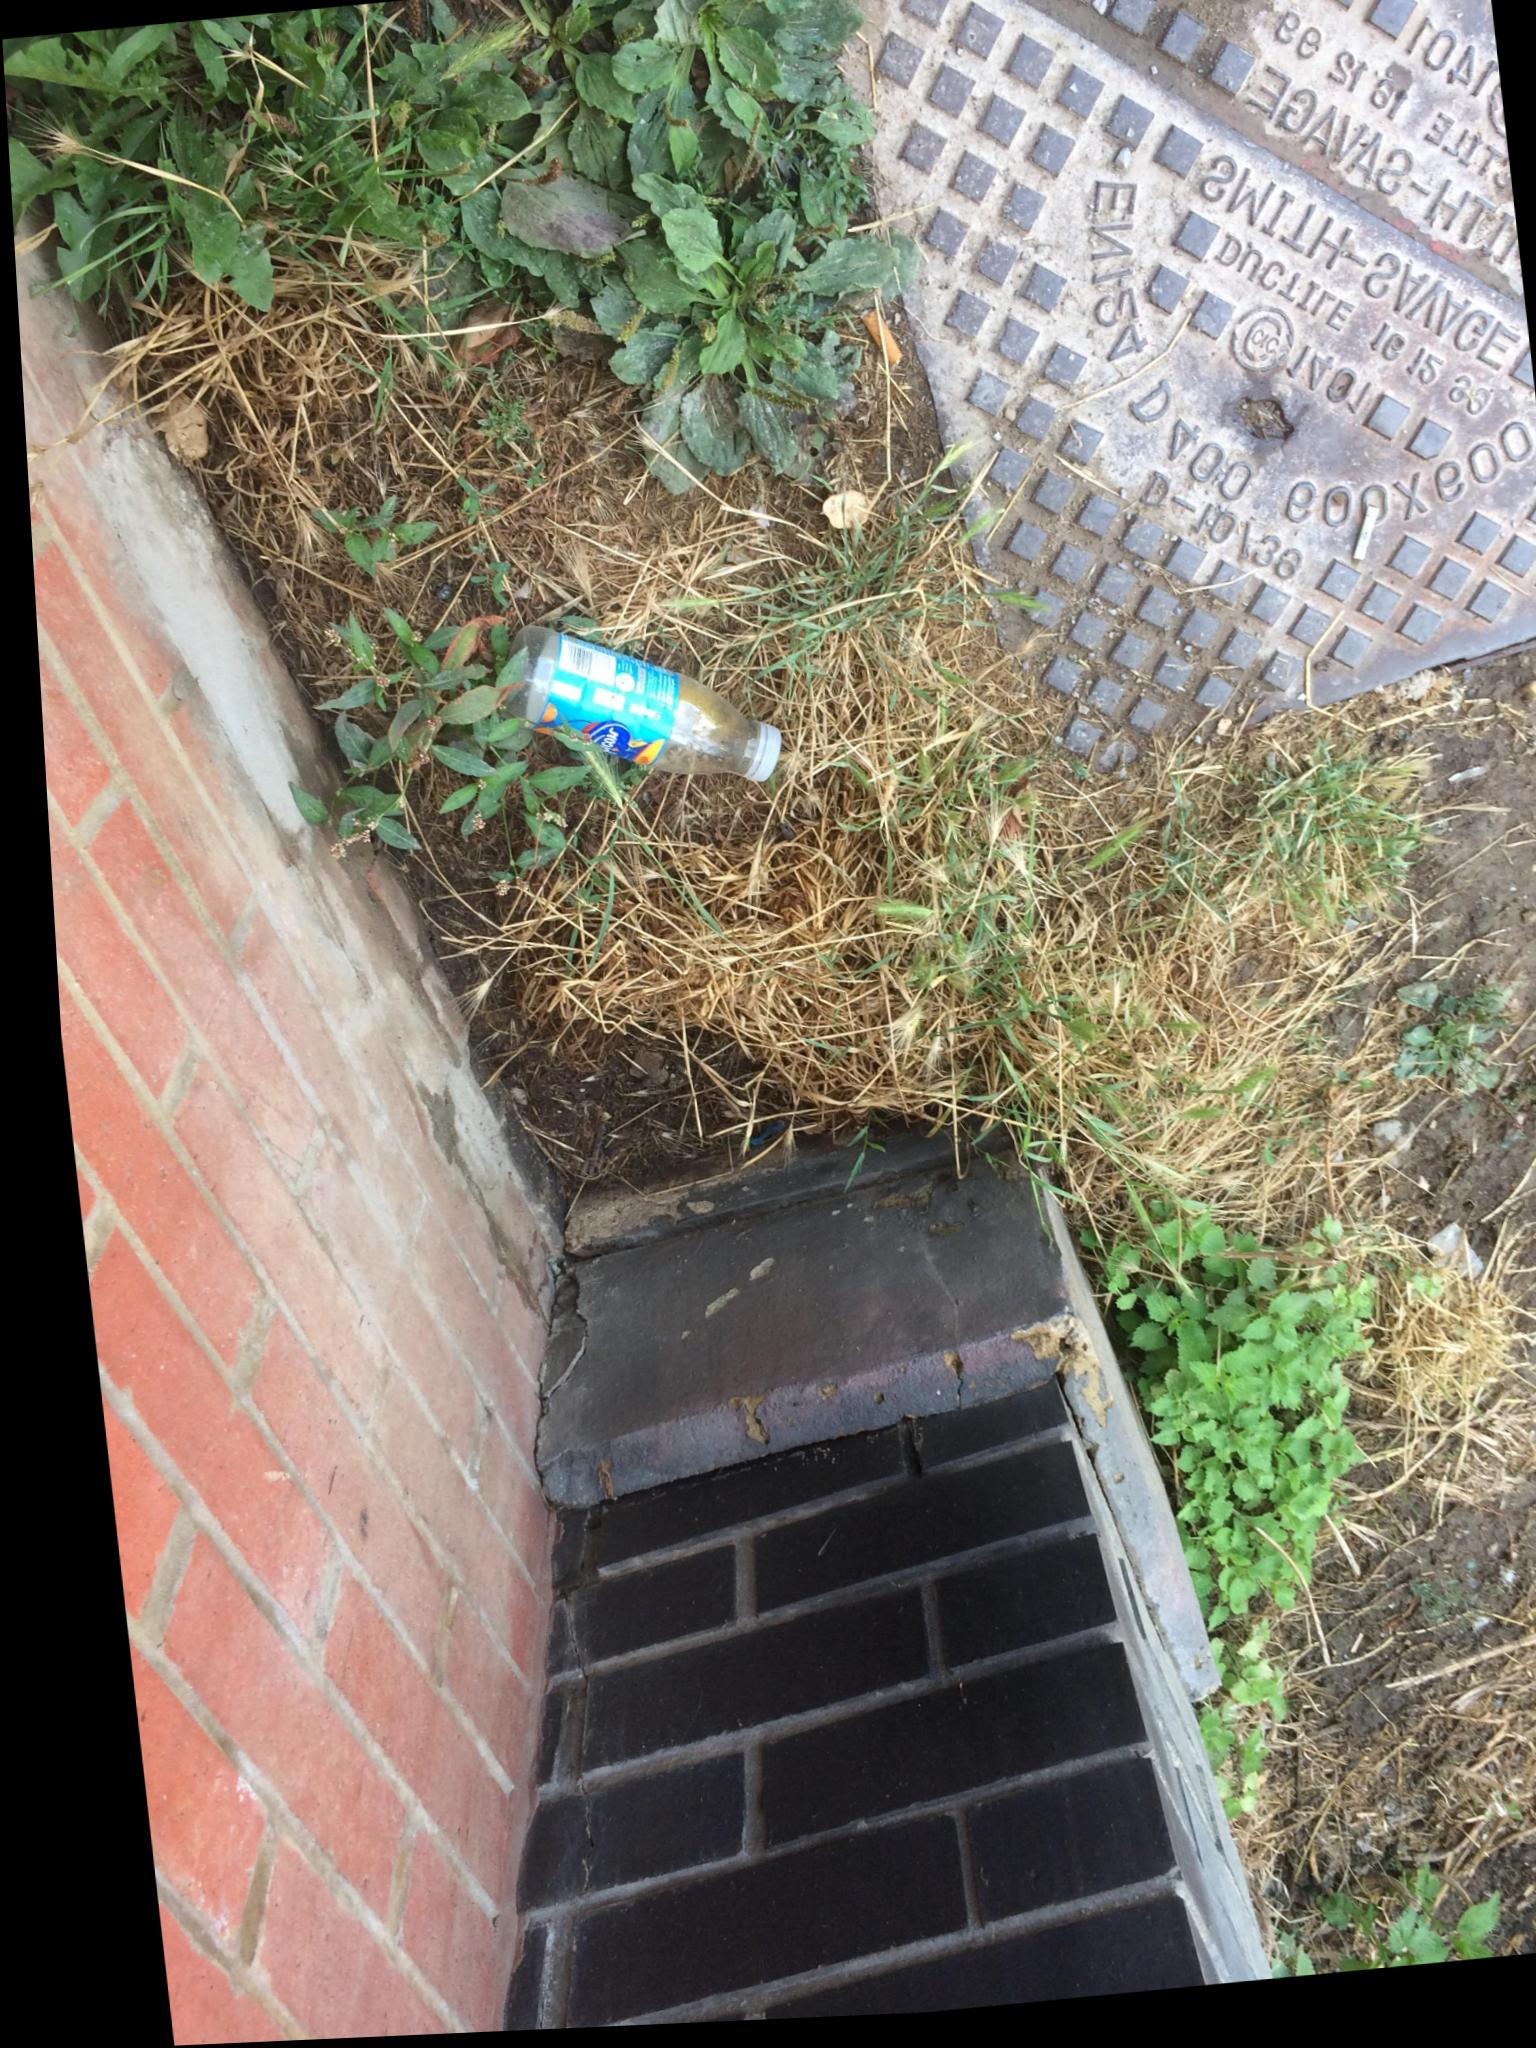plastic: (497, 626, 779, 780)
